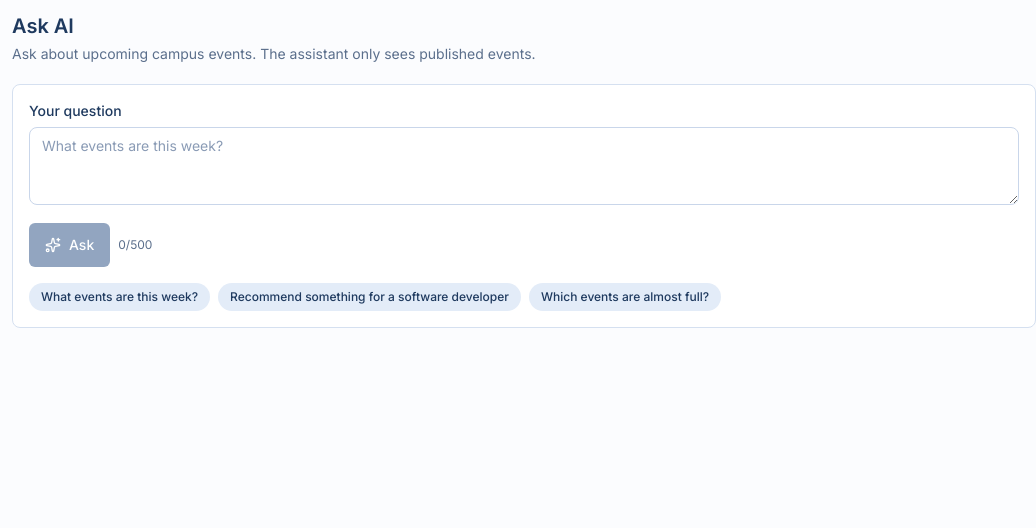
Ask AI assistant › shows the fallback message and renders model text as text, never HTML
The image size is (1036, 528).
Click the button "What events are this week?" at {"x": 120, "y": 297}, box [29, 283, 210, 311]
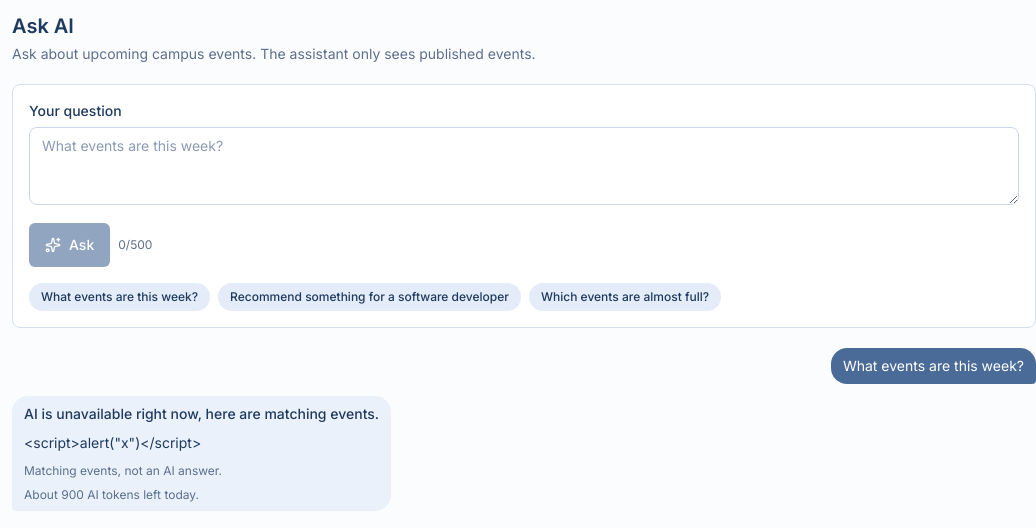
Expected: the text "AI is unavailable right now, here are matching events." is shown, [24, 404, 379, 424]
Expected: the text "<script>alert(\"x\")</script>" is shown, [24, 434, 201, 451]
